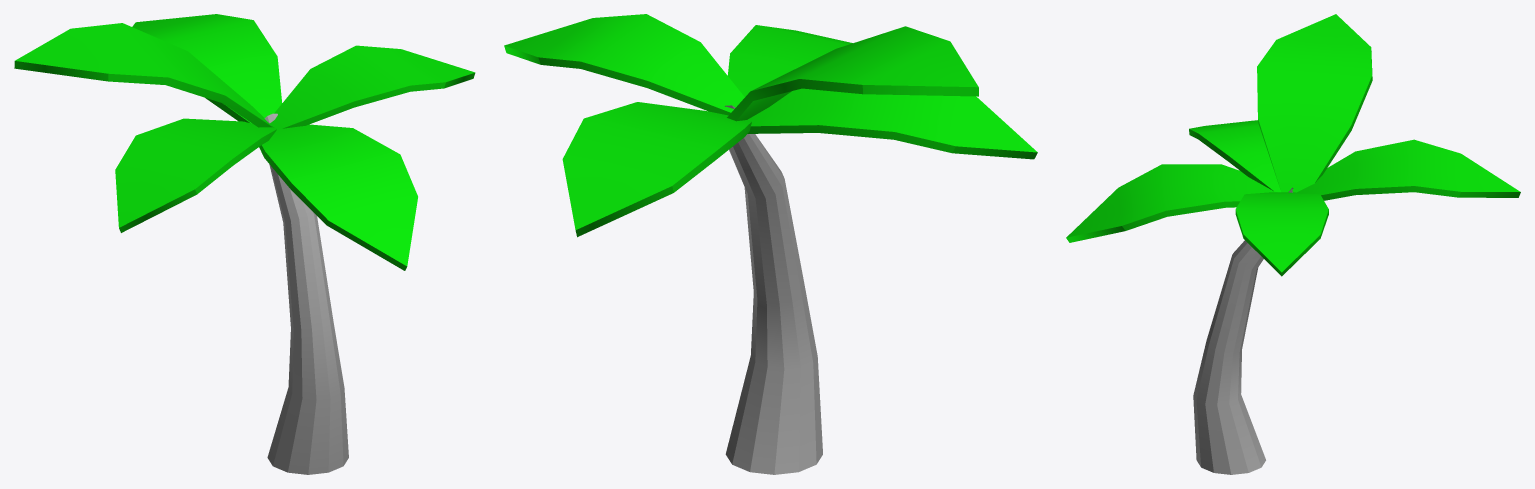
The model's file is tree.fbx.
3 renders of one model, left to right at view 1: azimuth 30°, elevation 25°; view 2: azimuth 150°, elevation 25°; view 3: azimuth 270°, elevation 25°, orthographic. The views are drawn at different scales.
Parts seen in each view (by area): view 1: pCylinder2; view 2: pCylinder2; view 3: pCylinder2.
Boxes of the visible parts, bbox=[...] form: pCylinder2: bbox=[14, 14, 475, 474]; pCylinder2: bbox=[504, 14, 1037, 474]; pCylinder2: bbox=[1066, 14, 1520, 474].
Size of the model in its own units: 17.69 by 16.1 by 19.
